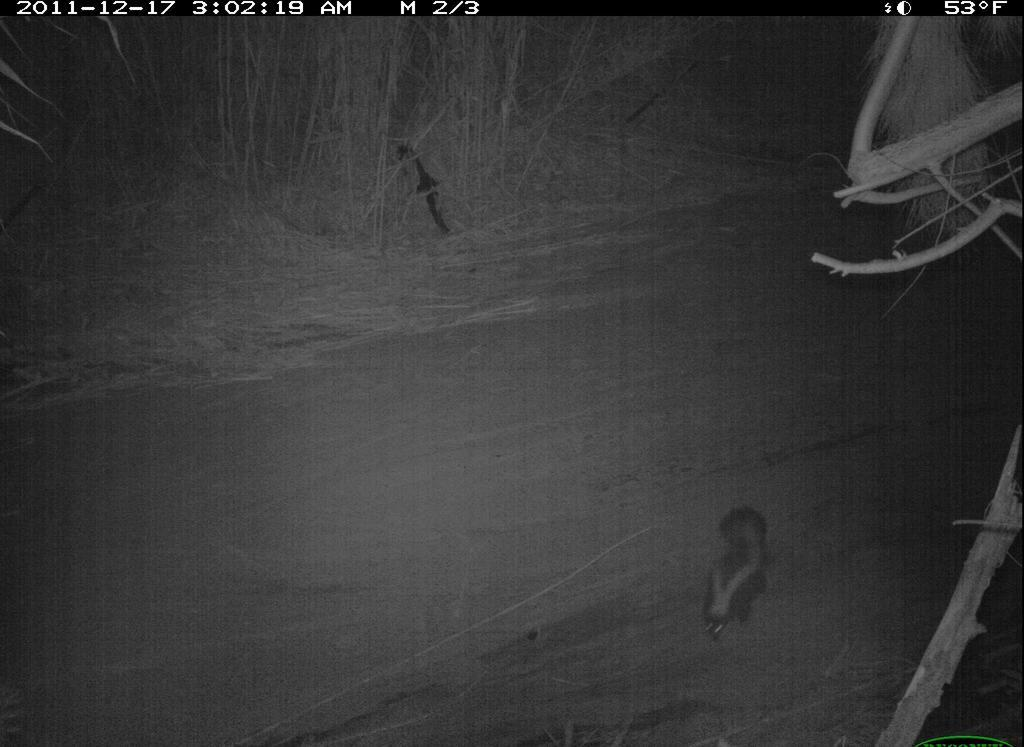skunk: (694, 487, 784, 649)
